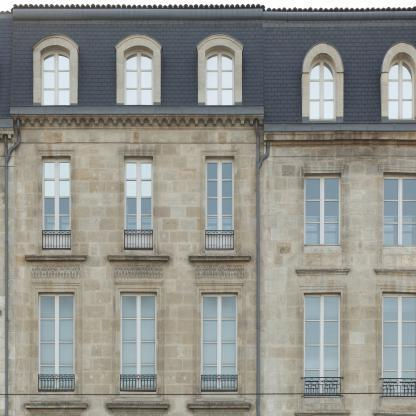Building Outline: (0, 3, 416, 416)
Cornice: (302, 42, 344, 72), (381, 41, 416, 72), (114, 33, 163, 50), (196, 33, 244, 50), (31, 33, 79, 50), (106, 402, 170, 410), (24, 402, 88, 410), (187, 402, 251, 410), (295, 267, 350, 276), (106, 255, 171, 262), (23, 255, 88, 262), (188, 255, 253, 262), (374, 267, 416, 275), (293, 411, 351, 416), (372, 412, 416, 416)
Facade: (0, 3, 415, 415)
Floor: (1, 260, 416, 398), (1, 143, 416, 248)
Floor Slab: (1, 131, 416, 142), (1, 398, 416, 409), (1, 248, 416, 259)
Molding: (10, 115, 263, 126), (264, 131, 416, 142), (114, 264, 163, 280), (196, 264, 244, 280), (32, 264, 80, 280)
Roof: (0, 3, 415, 132)
Top Floor: (1, 11, 416, 131)
Window: (304, 292, 340, 395), (382, 292, 416, 396), (38, 293, 74, 391), (121, 292, 157, 390), (202, 292, 238, 390), (205, 156, 234, 248), (124, 156, 153, 248), (305, 173, 341, 245), (42, 156, 70, 248), (382, 173, 416, 246), (388, 52, 416, 122), (309, 53, 337, 123), (124, 45, 154, 105), (205, 45, 235, 105), (40, 45, 70, 105)
